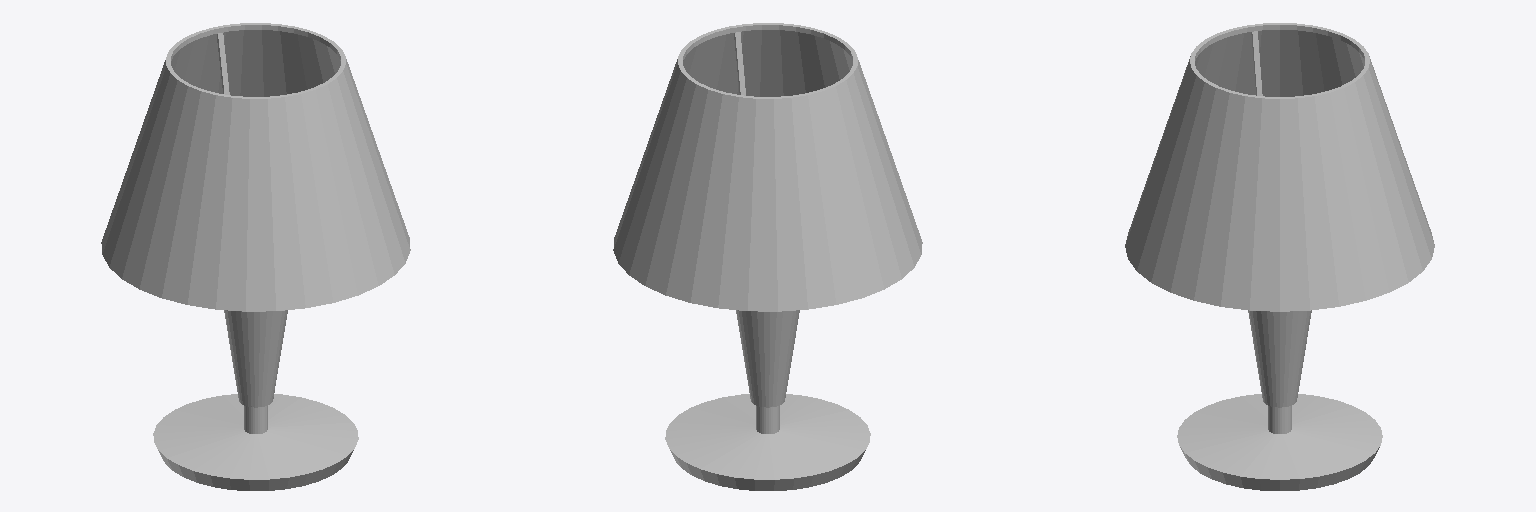
The model's file is template-support-object-model.obj.
The picture shows the model from 3 angles: view 1: azimuth 30°, elevation 25°; view 2: azimuth 150°, elevation 25°; view 3: azimuth 270°, elevation 25°; orthographic projection.
Parts seen in each view (by area): view 1: lamp1_Circle.001; view 2: lamp1_Circle.001; view 3: lamp1_Circle.001.
Boxes of the visible parts, x1=… form: lamp1_Circle.001: x1=101, y1=23, x2=410, y2=490; lamp1_Circle.001: x1=613, y1=23, x2=922, y2=490; lamp1_Circle.001: x1=1125, y1=23, x2=1434, y2=490.
Bounding box in the file's own units: 0.3094 × 0.4297 × 0.3094.